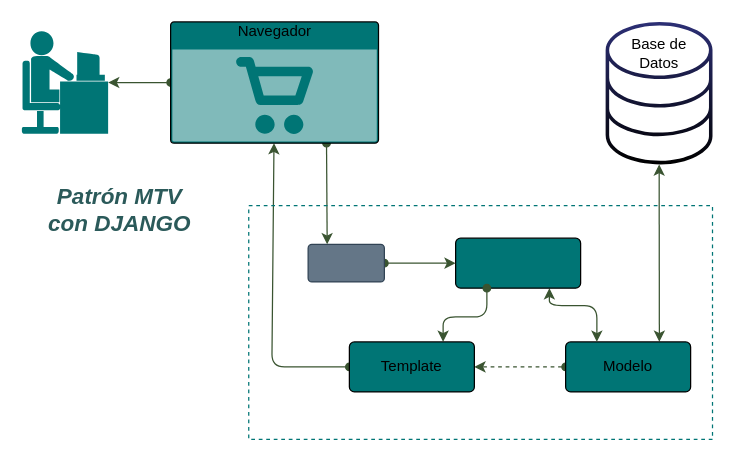
Some shapes in this 734 by 461 pixel diagram are drawn without their labels. The centre of each missing label's shape, as x and y in pixels:
"URLs" belongs at point 345,262.
"Vista" belongs at point 517,262.
